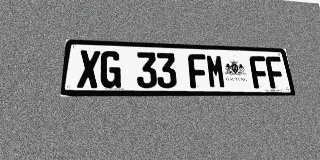3: (156, 52, 177, 88), (137, 52, 157, 88)
F: (188, 54, 208, 88), (249, 56, 270, 88), (265, 56, 286, 88)
G: (99, 51, 121, 88)
M: (205, 54, 226, 88)
X: (77, 50, 100, 88)
